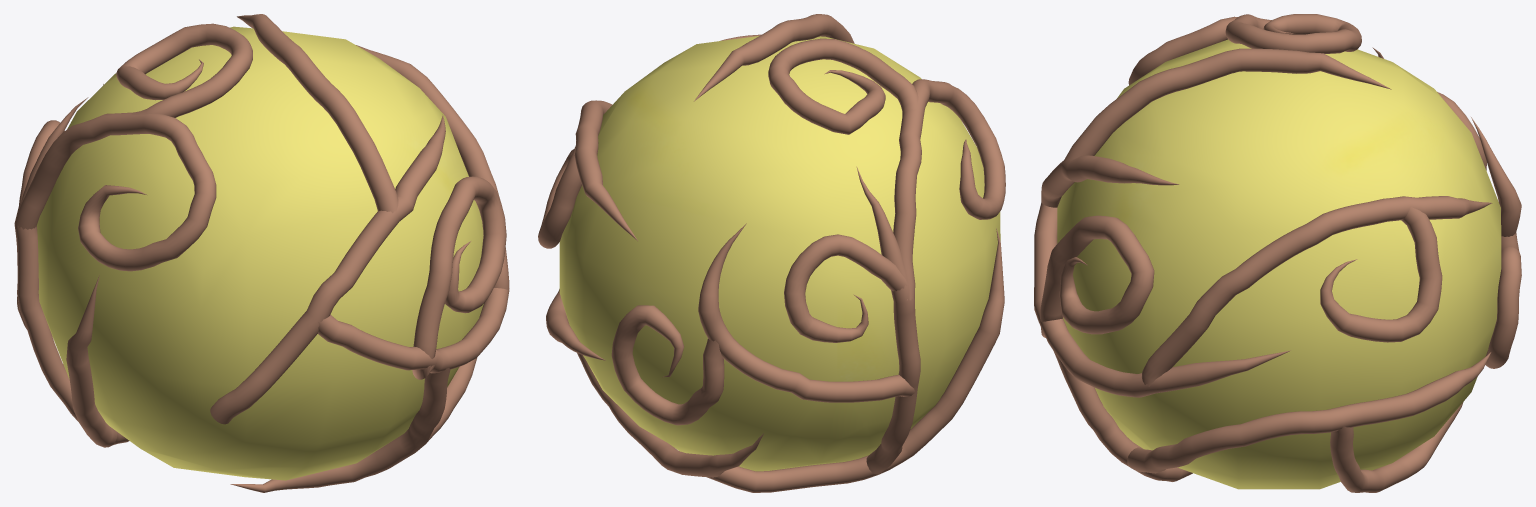
3 views of the same model, side by side, from view 1: azimuth 30°, elevation 25°; view 2: azimuth 150°, elevation 25°; view 3: azimuth 270°, elevation 25° (orthographic). The views are drawn at different scales.
Visible parts, largest first — view 1: Icosphere.001, Vine.001; view 2: Icosphere.001, Vine.001; view 3: Icosphere.001, Vine.001.
Boxes of the visible parts, bbox=[...] form: Icosphere.001: bbox=[36, 26, 483, 480]; Vine.001: bbox=[14, 14, 509, 492]; Icosphere.001: bbox=[559, 36, 1000, 471]; Vine.001: bbox=[538, 14, 1005, 492]; Icosphere.001: bbox=[1057, 39, 1501, 489]; Vine.001: bbox=[1034, 14, 1521, 492].
Size of the model in its own units: 207 by 201 by 209.
